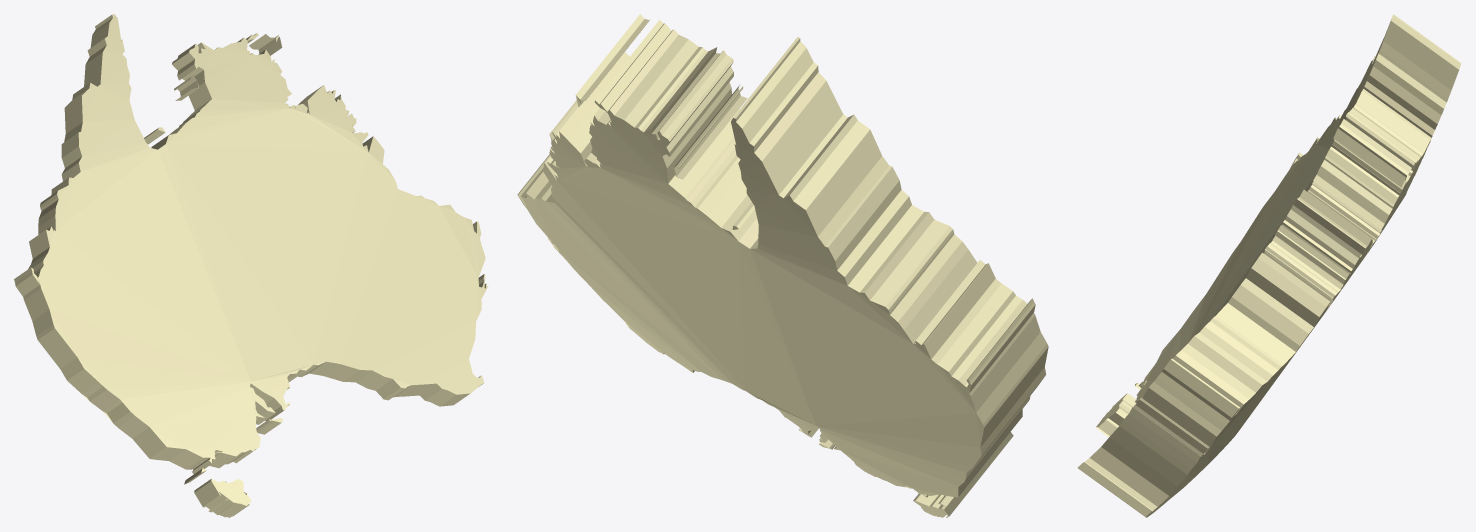
Rendered from AustraliaOnly.fbx.
3 renders of one model, left to right at view 1: azimuth 30°, elevation 25°; view 2: azimuth 150°, elevation 25°; view 3: azimuth 270°, elevation 25°, orthographic. The views are drawn at different scales.
Visible parts, largest first — view 1: Australia; view 2: Australia; view 3: Australia.
Part boxes in pixels (box(x1,y1,x2,y2)): Australia: box(14, 14, 488, 517); Australia: box(517, 14, 1048, 517); Australia: box(1077, 14, 1461, 517).
Bounding box in the file's own units: 16.97 × 17.24 × 13.14.
